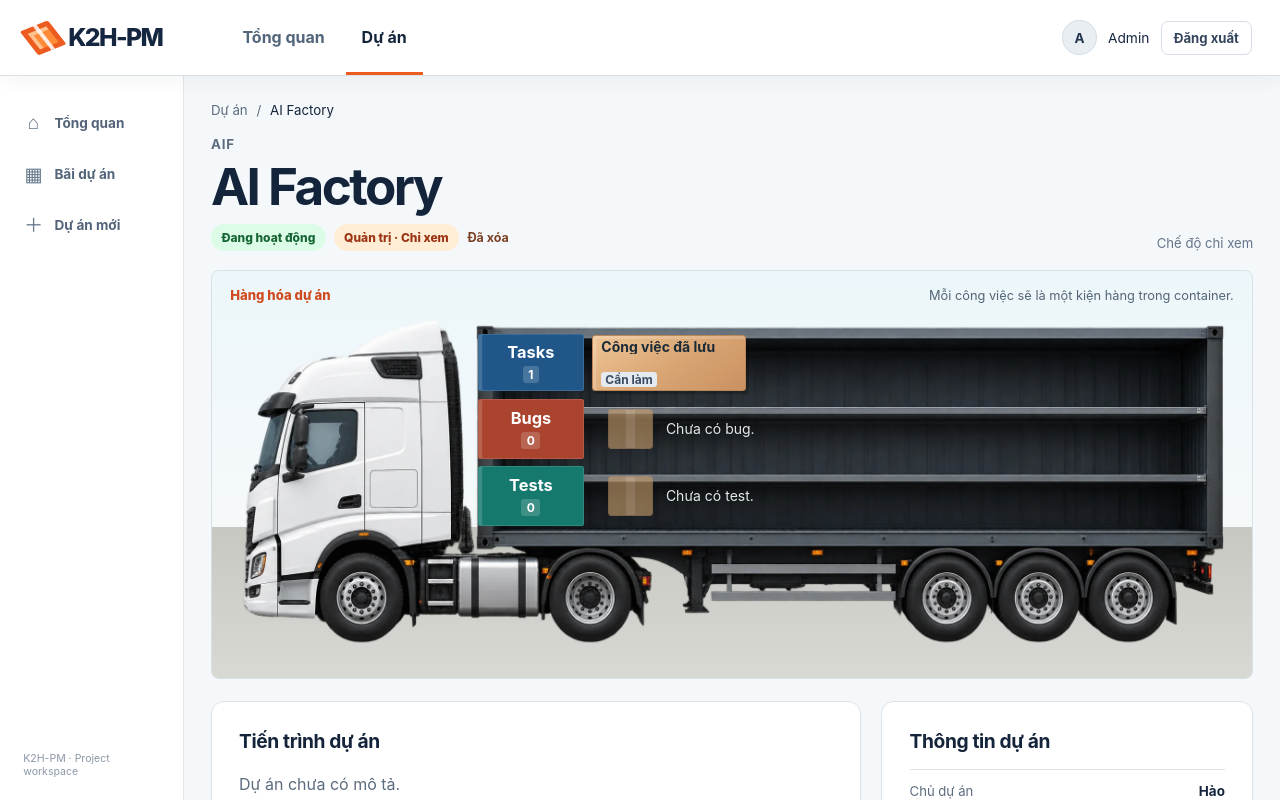
it: ProjectDetailPage › keeps the deleted view when an ADMIN opens a parcel
Click the link with aria-label "Công việc đã lưu, Cần làm". click: point(669, 363)
box: 592,335 -> 746,391
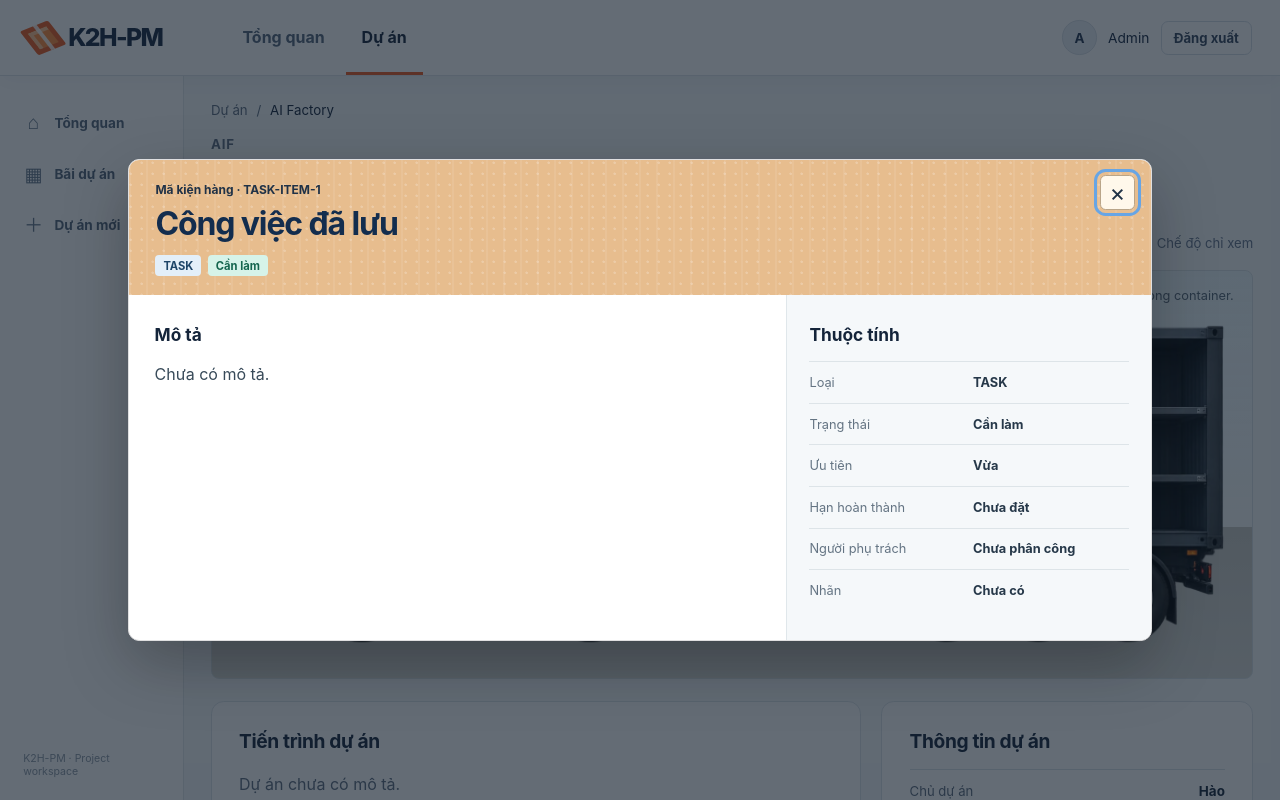
Expected: the dialog named "Chi tiết Công việc đã lưu" is shown, 128,159 -> 1152,641
